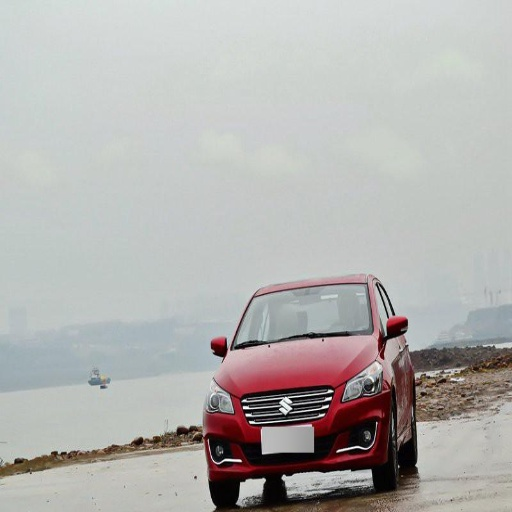front_bumper: (204, 383, 392, 478)
hood: (219, 335, 377, 394)
